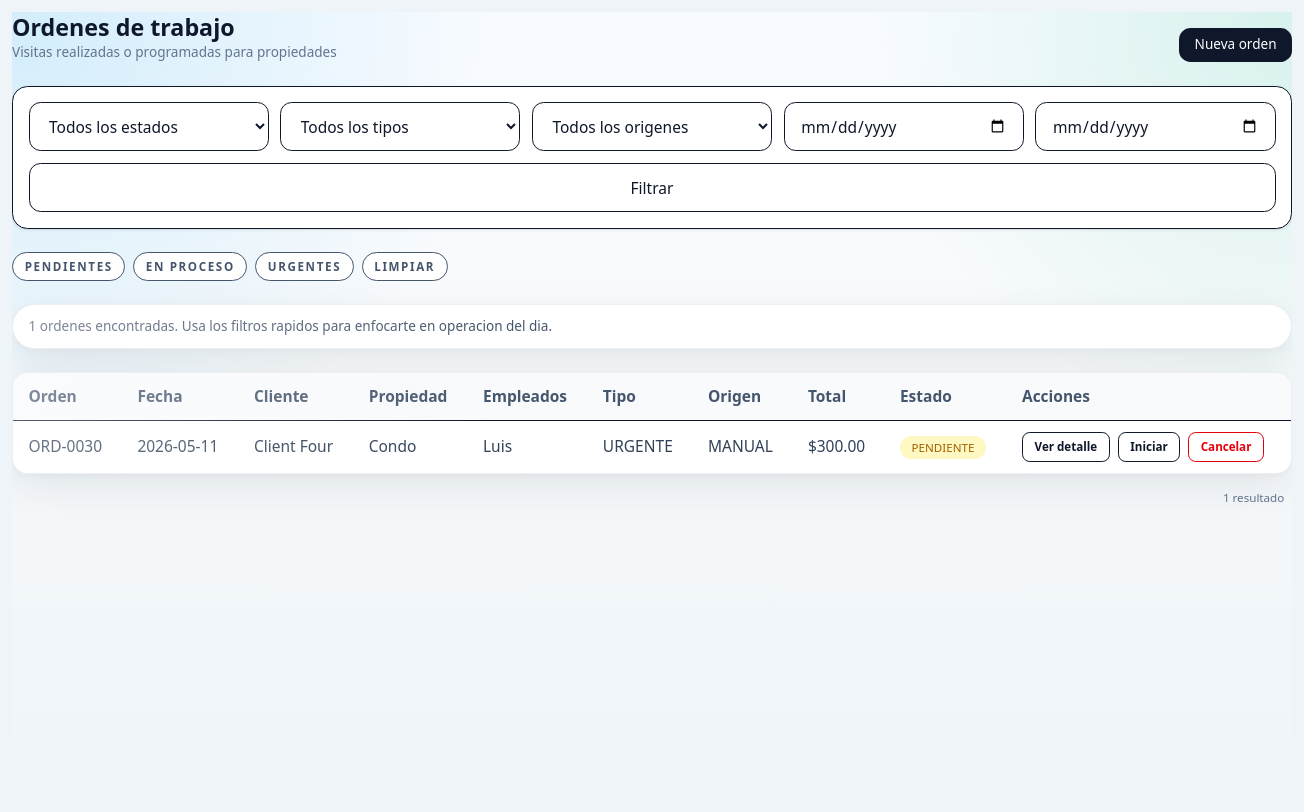
Test: OrdenesPage › muestra error si falla iniciar una orden
The image size is (1304, 812).
Expected: the text "ORD-0030" is shown, [13,420,122,473]
What coordinates should you click on to do the following:
click the button "Iniciar"
I would click on:
 (1149, 447)
Its box is [1118,432,1180,462].
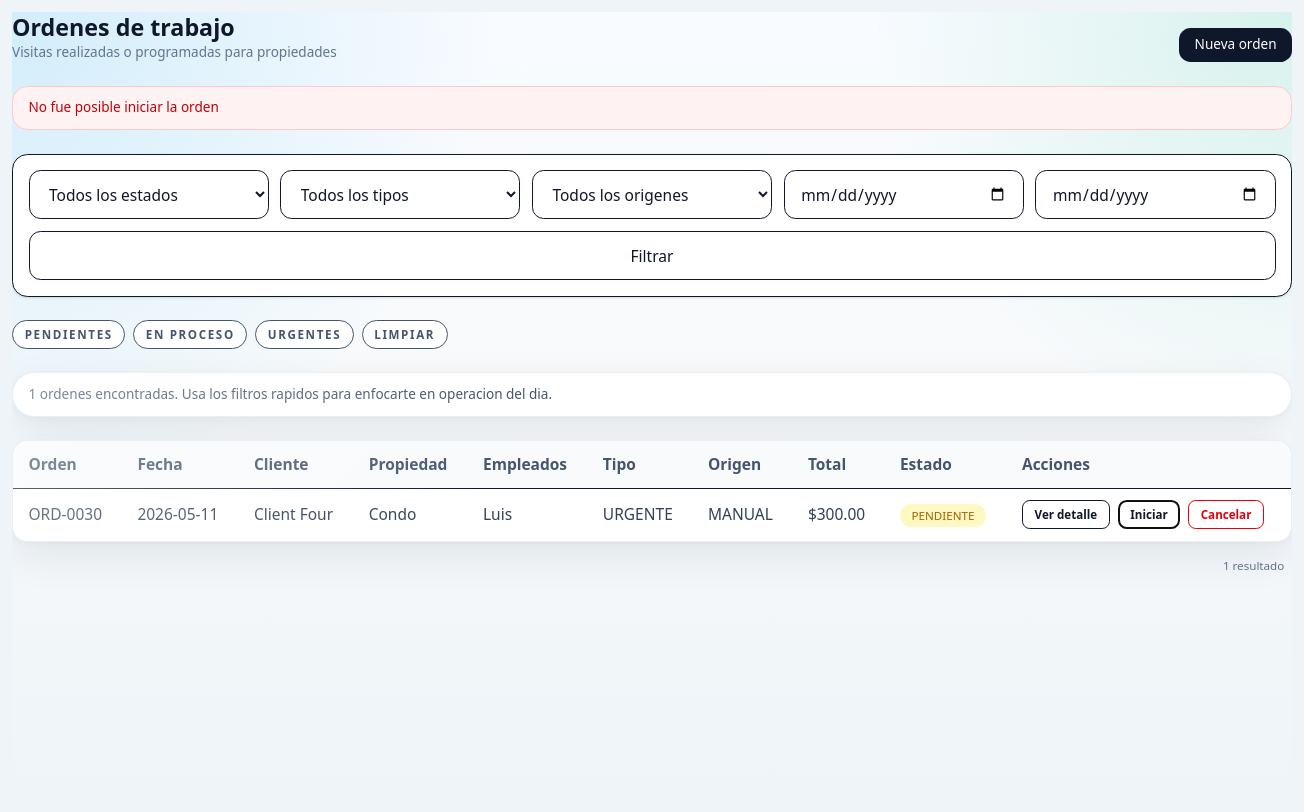
Expected: the text "No fue posible iniciar la orden" is shown, [12,86,1292,130]
